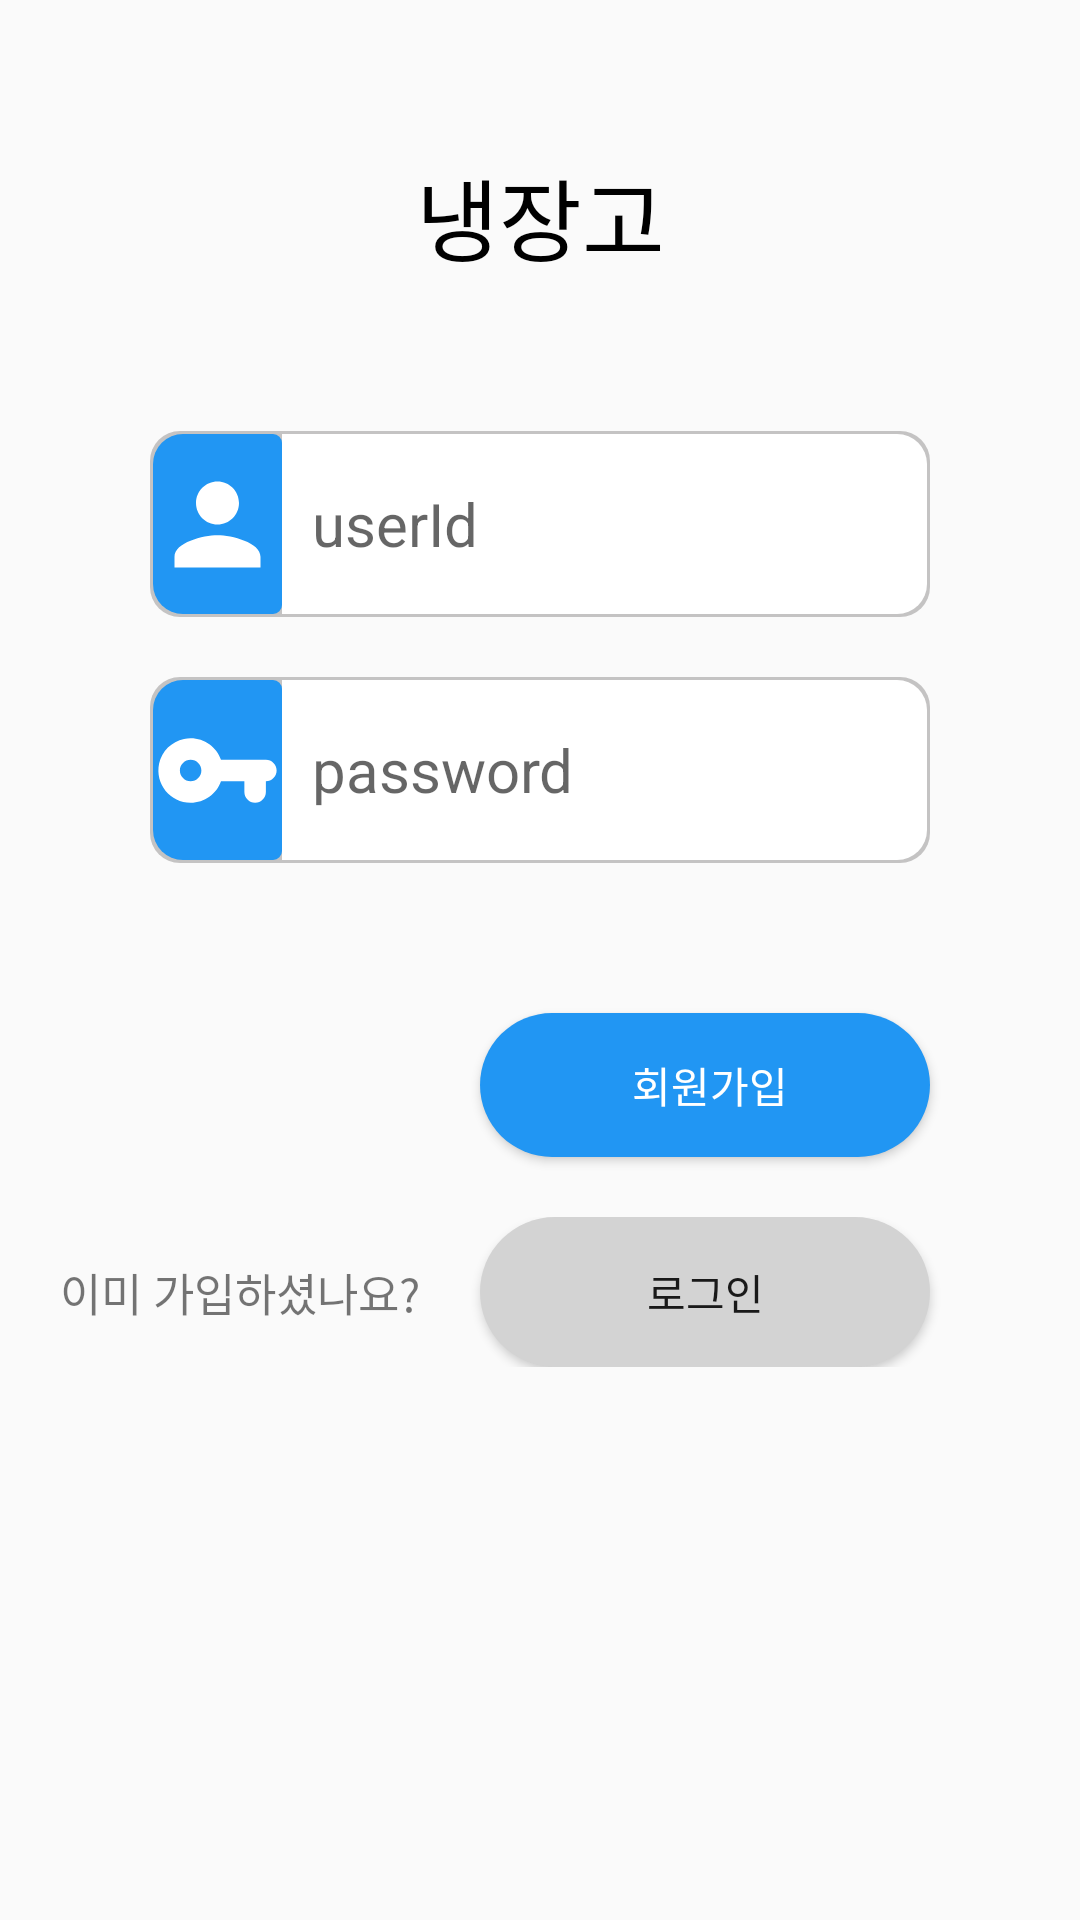

Where to tap for icons on this 1080x1920 app screen, as point (x, y):
person: point (217, 524)
vpn key: point (217, 770)
